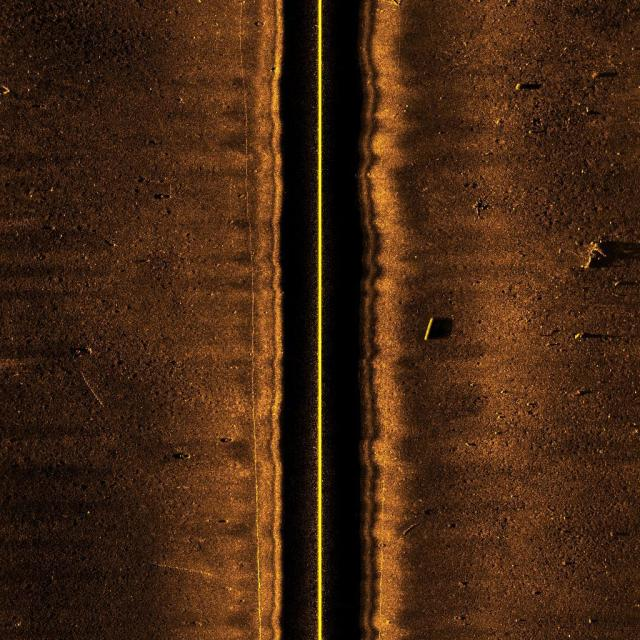mine: (420, 314, 455, 344)
other: (578, 233, 610, 273), (513, 81, 538, 91)
